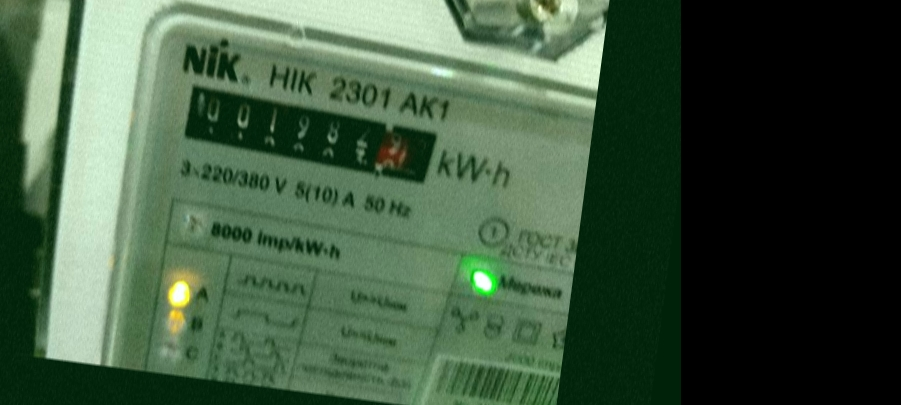0: (200, 90, 220, 121), (230, 97, 250, 128)
1: (261, 101, 277, 131)
2: (350, 115, 372, 146)
8: (321, 112, 340, 142)
9: (380, 125, 404, 156), (290, 107, 308, 138)
screen: (161, 65, 452, 197)
